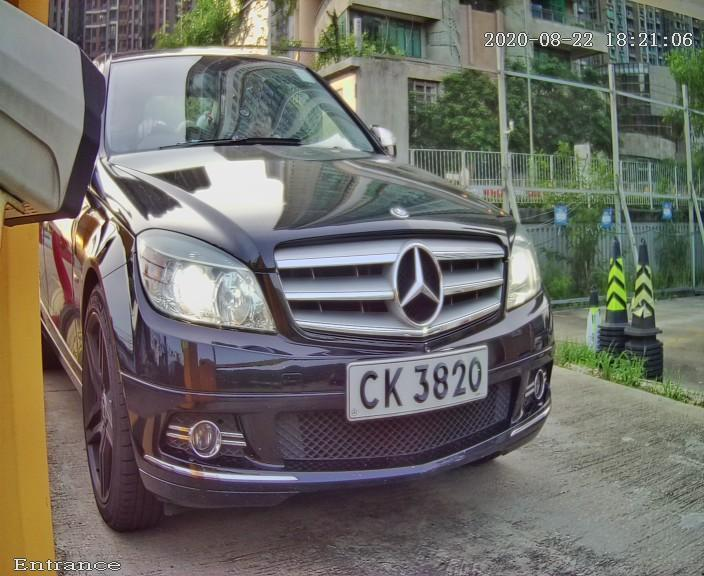Car: (26, 19, 601, 543)
License Plate: (308, 305, 511, 453)
